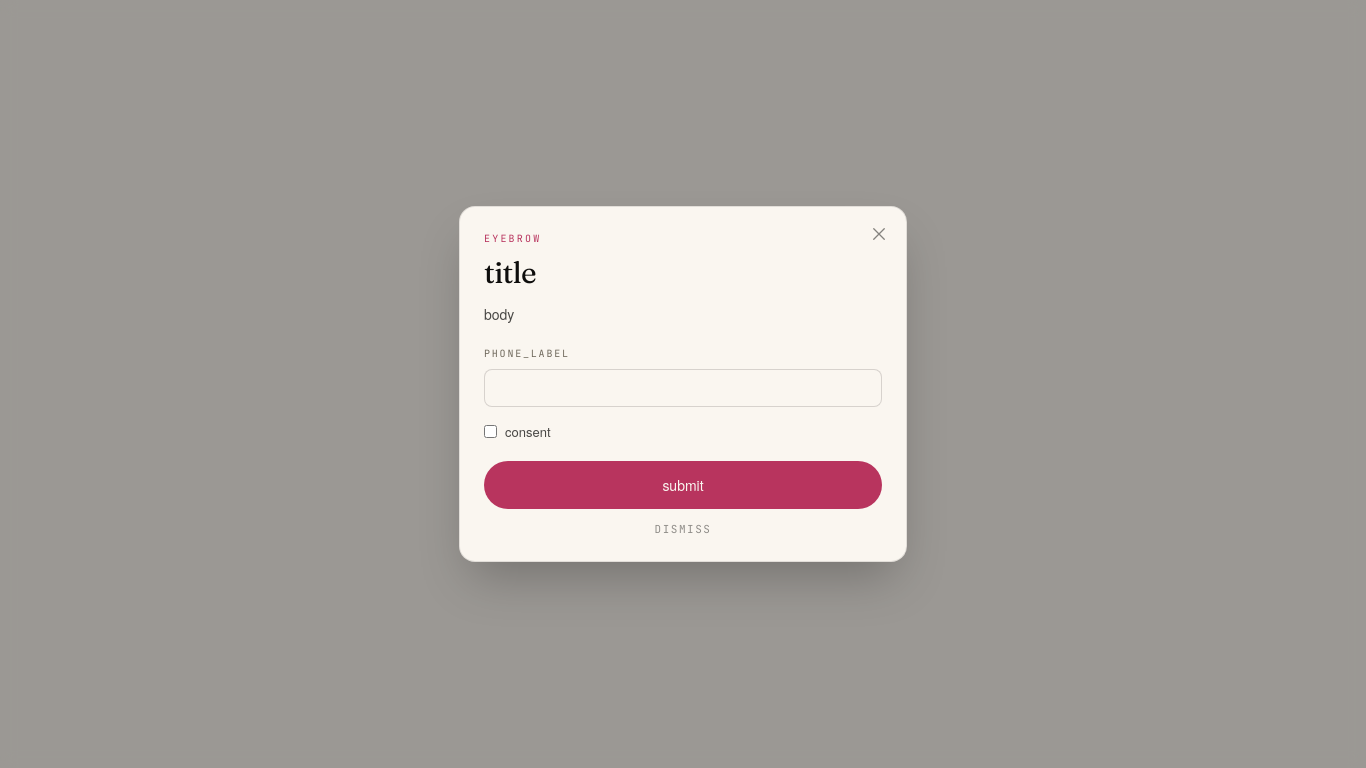
Test: WelcomeOffer › confirms rather than leaving the form up
Expected: the dialog is shown, [459,206,907,562]
Type "5165550100" into the field labelled "phone_label" at (683, 388), box [484,369,882,407]
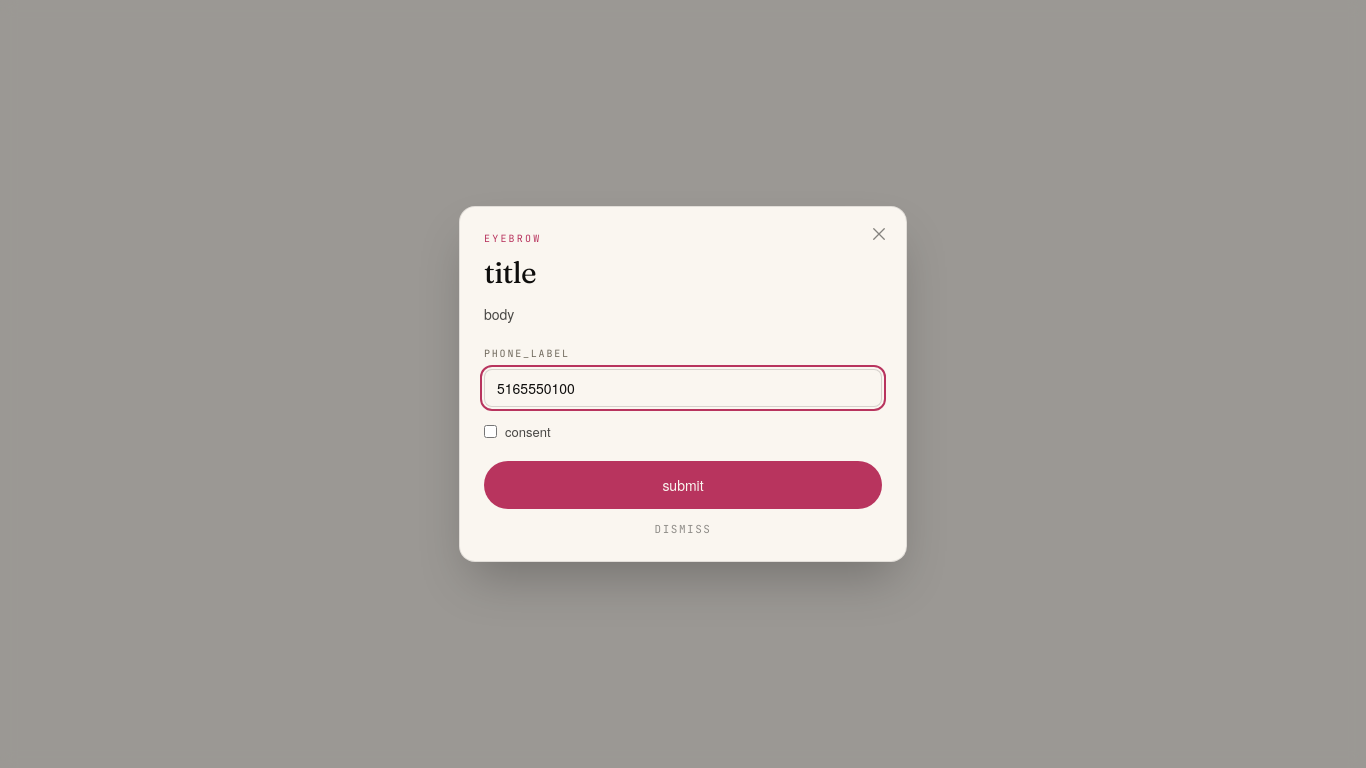
Click the checkbox at (490, 431), box [484,425,497,438]
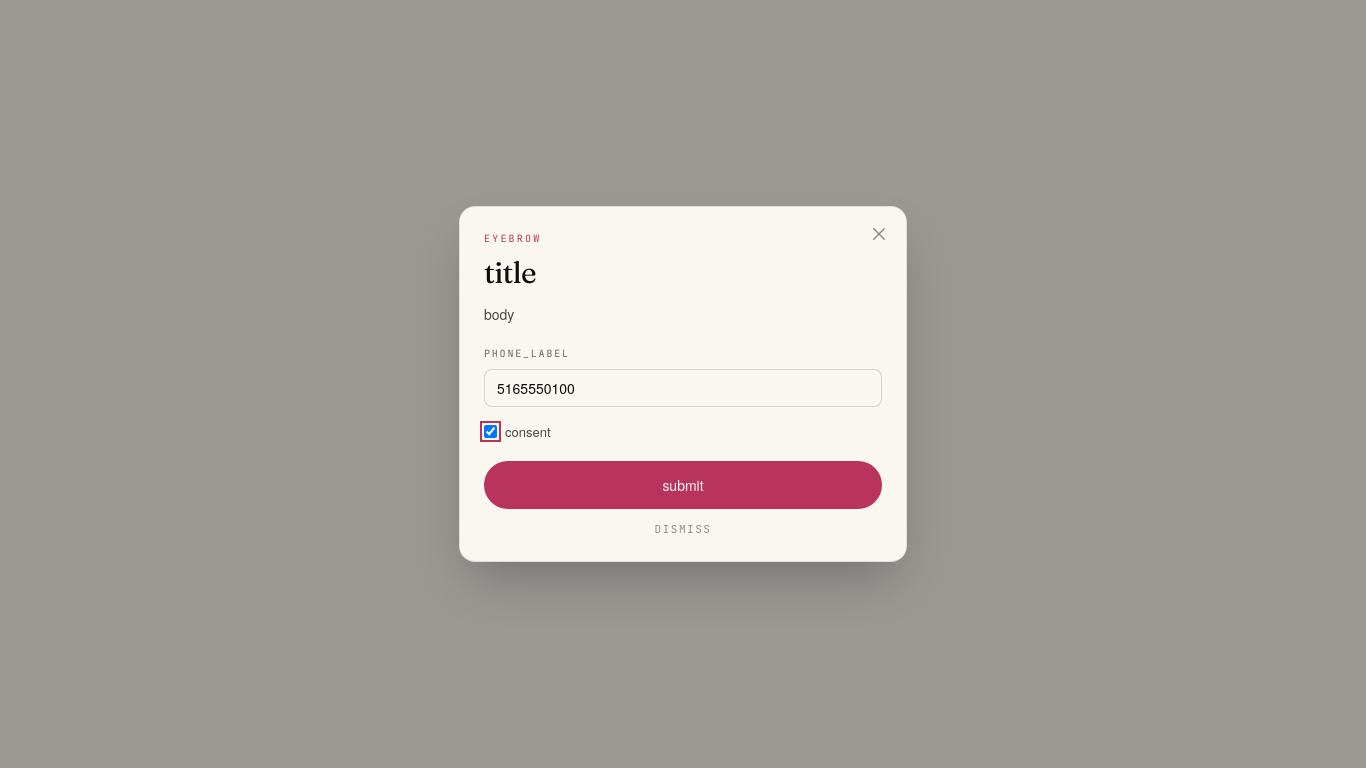
Click the button "submit" at (683, 485), box [484,461,882,509]
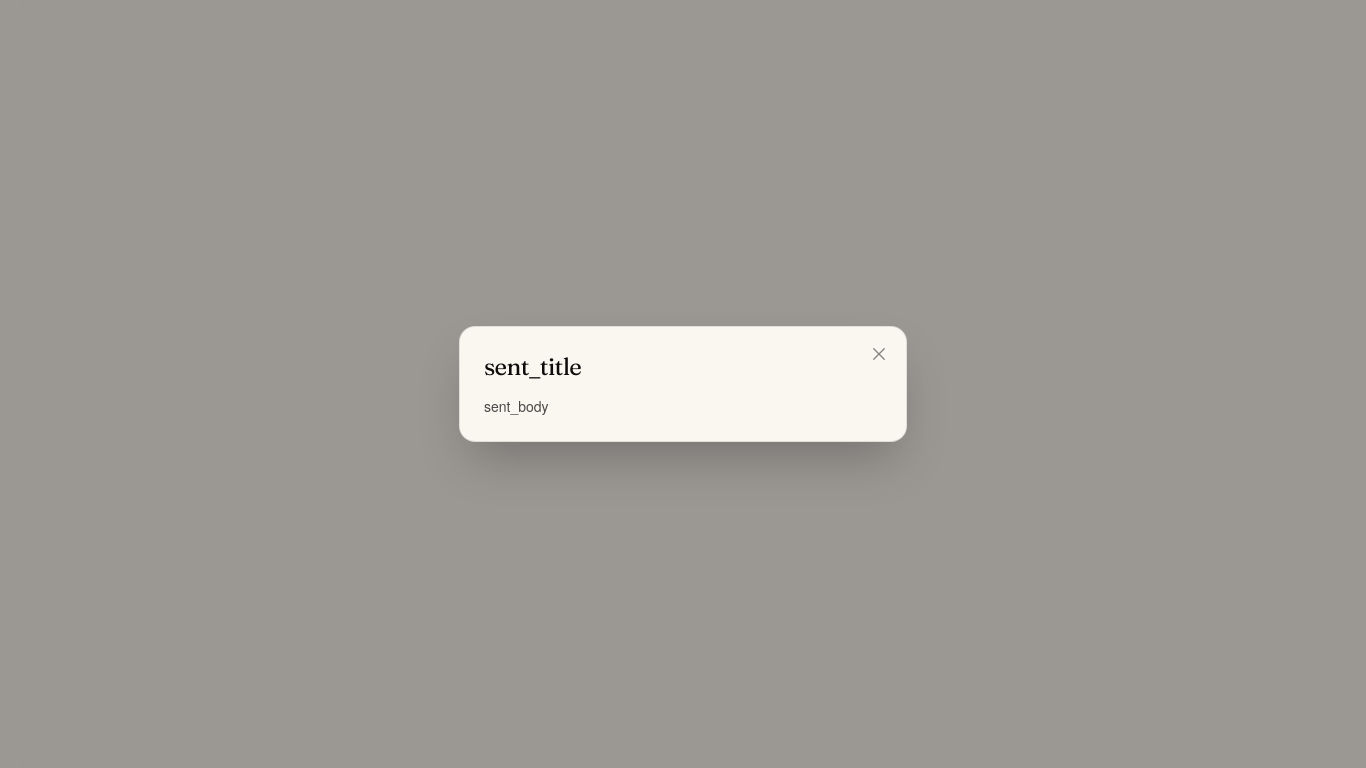
Now the heading "sent_title" is shown, box [484,352,581,381]
